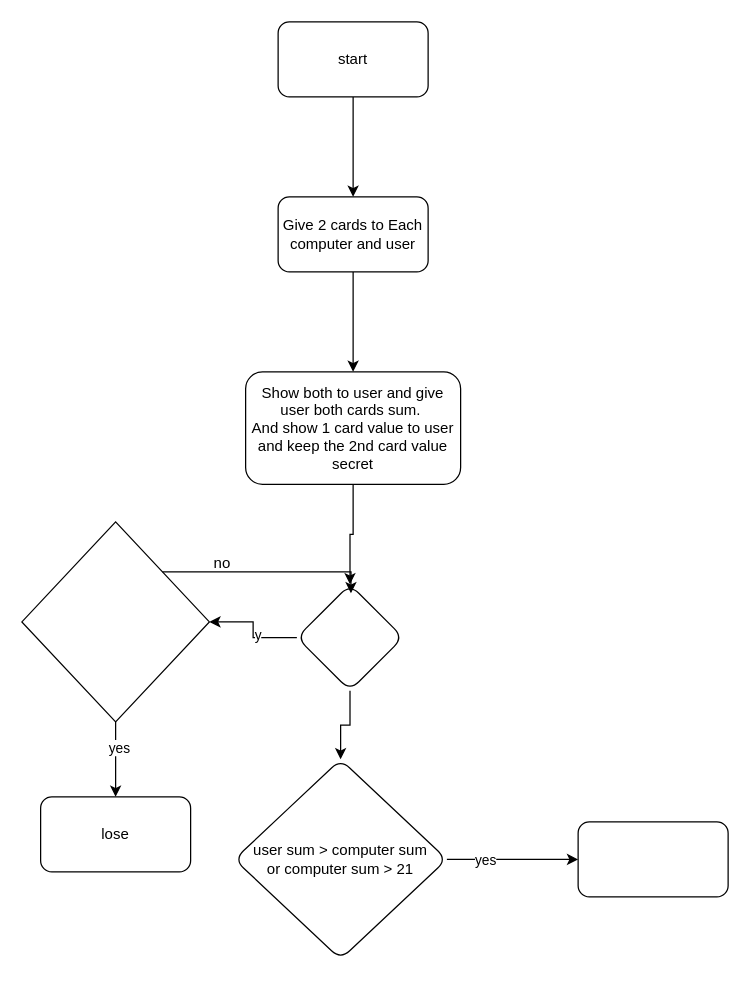
Image size: 750x981. Some labels were removed from this diagram. The shapes that lost their labels are listed below. From the top down, each one's centre as x and y in pixels, then its label:
(115,621): current score>21 and give computer another card as well
(349,637): pick another card?
